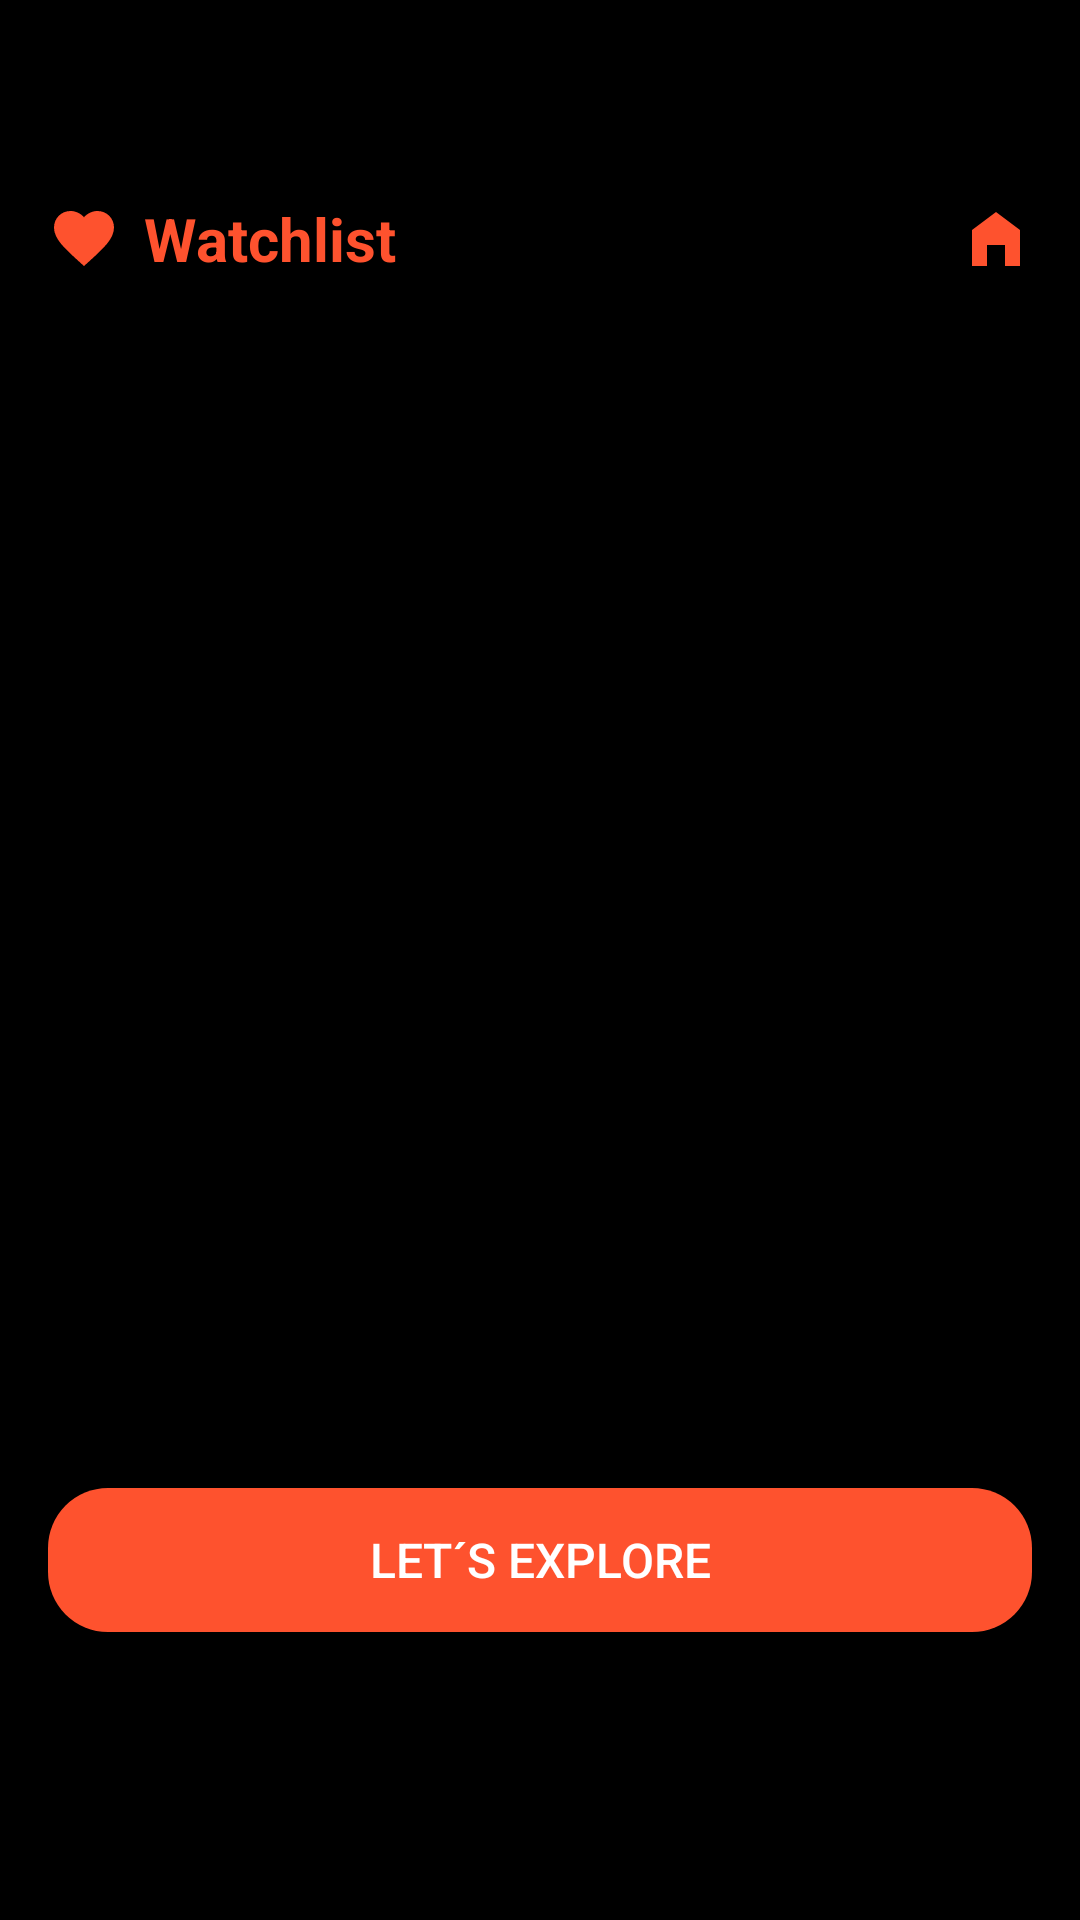

Icon click points for this 1080px×1920px phone screenshot, format point (x, y):
home: point (996, 239)
